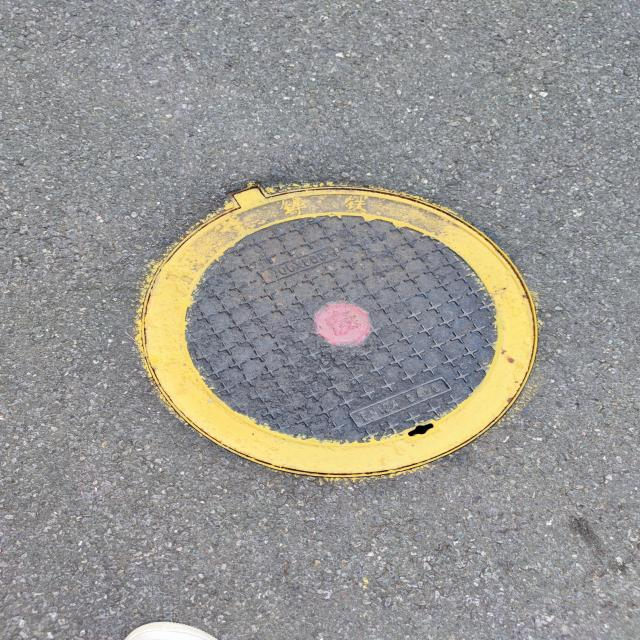Good: (135, 181, 548, 484)
